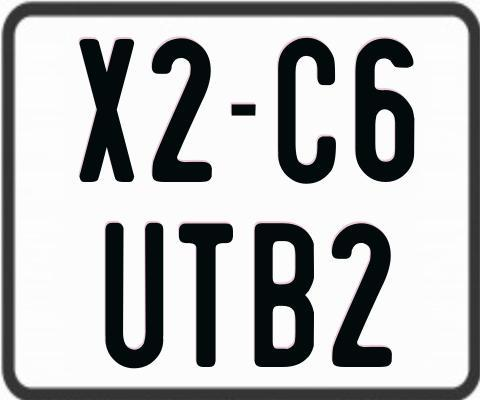2: (152, 35, 214, 184), (331, 222, 392, 372)
6: (355, 36, 418, 185)
B: (253, 222, 312, 368)
C: (278, 38, 340, 190)
T: (178, 220, 232, 364)
U: (105, 222, 167, 371)
X: (77, 39, 132, 184)
